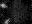person: (4, 17, 9, 23), (1, 5, 5, 8)
